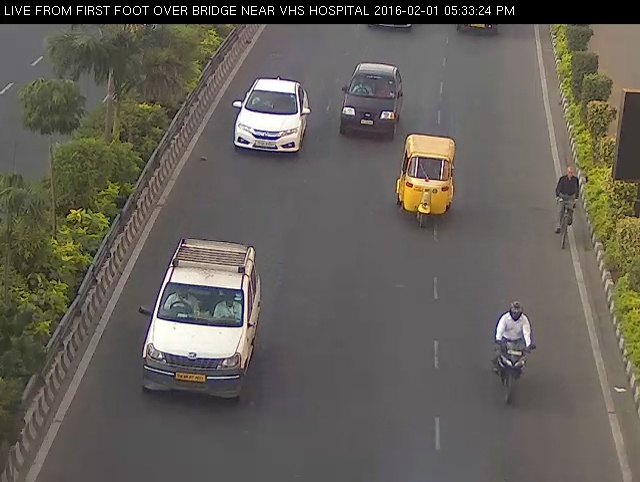Auto: (392, 130, 462, 234), (446, 13, 505, 43)
Car: (121, 224, 273, 430), (220, 72, 322, 165), (331, 51, 414, 149), (352, 7, 423, 37)
Person: (482, 291, 544, 418)
